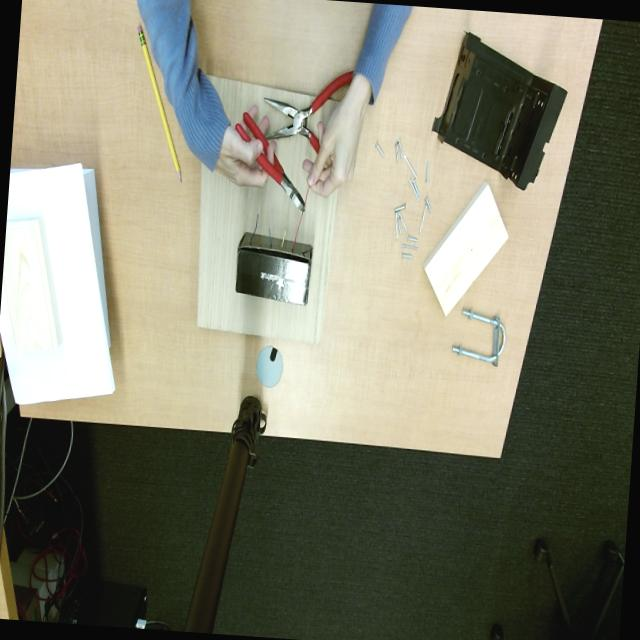pliers: (264, 71, 352, 151), (256, 153, 304, 212), (235, 123, 250, 141), (244, 115, 257, 127), (259, 133, 266, 150)
